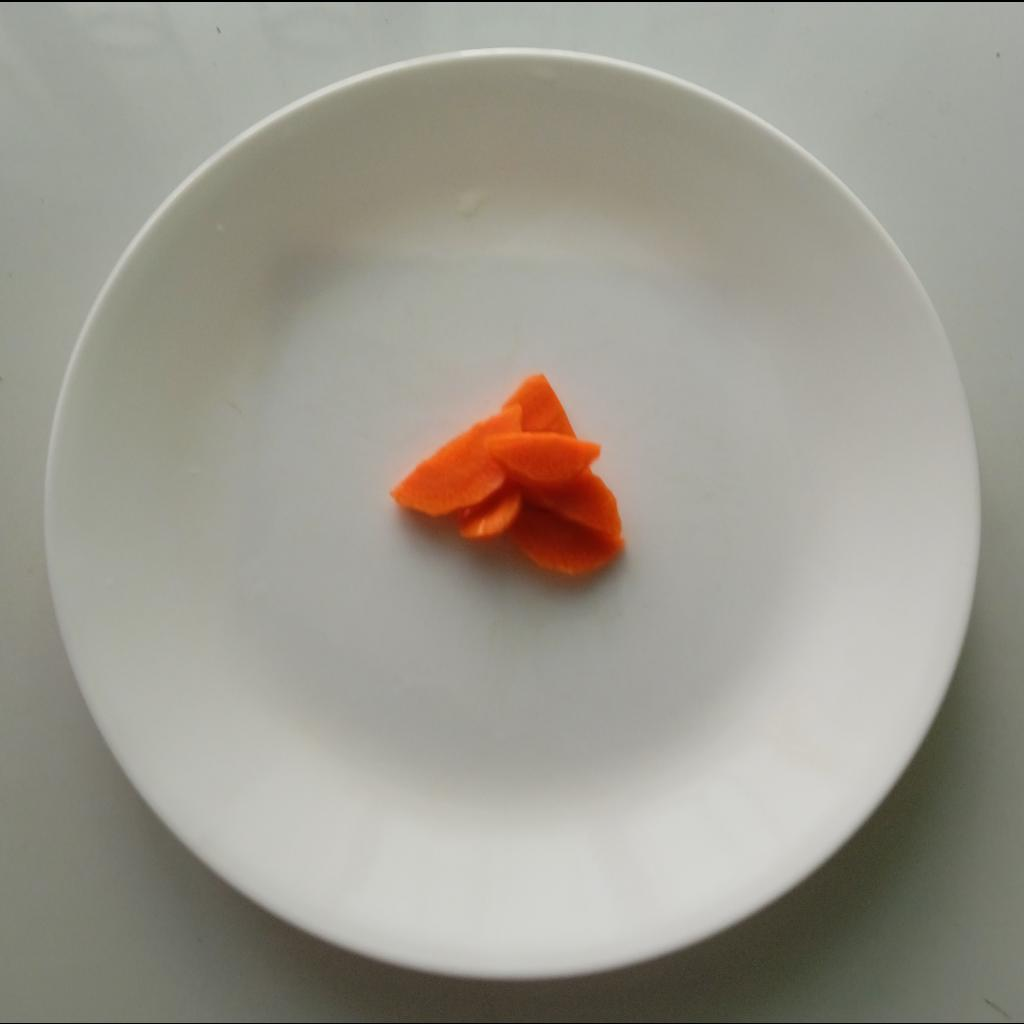carrot: (393, 363, 627, 582)
